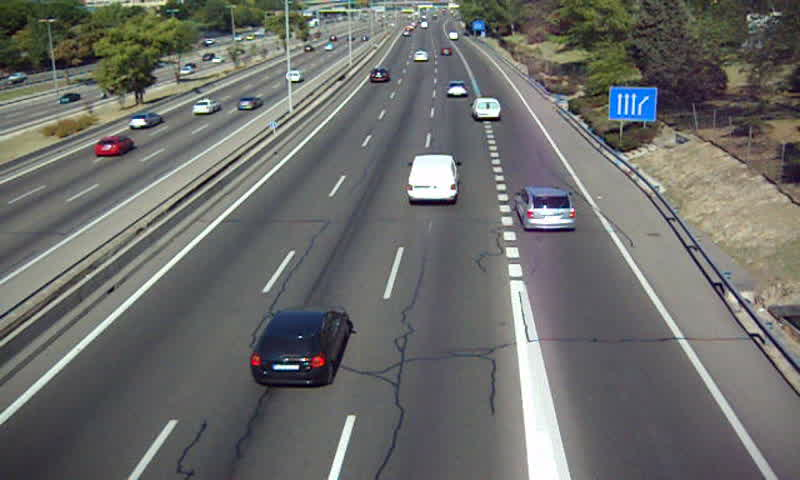car: (249, 309, 349, 387), (516, 188, 577, 231), (444, 81, 470, 100), (370, 67, 390, 84), (411, 49, 430, 61)
van: (407, 156, 459, 204), (471, 98, 501, 120)
